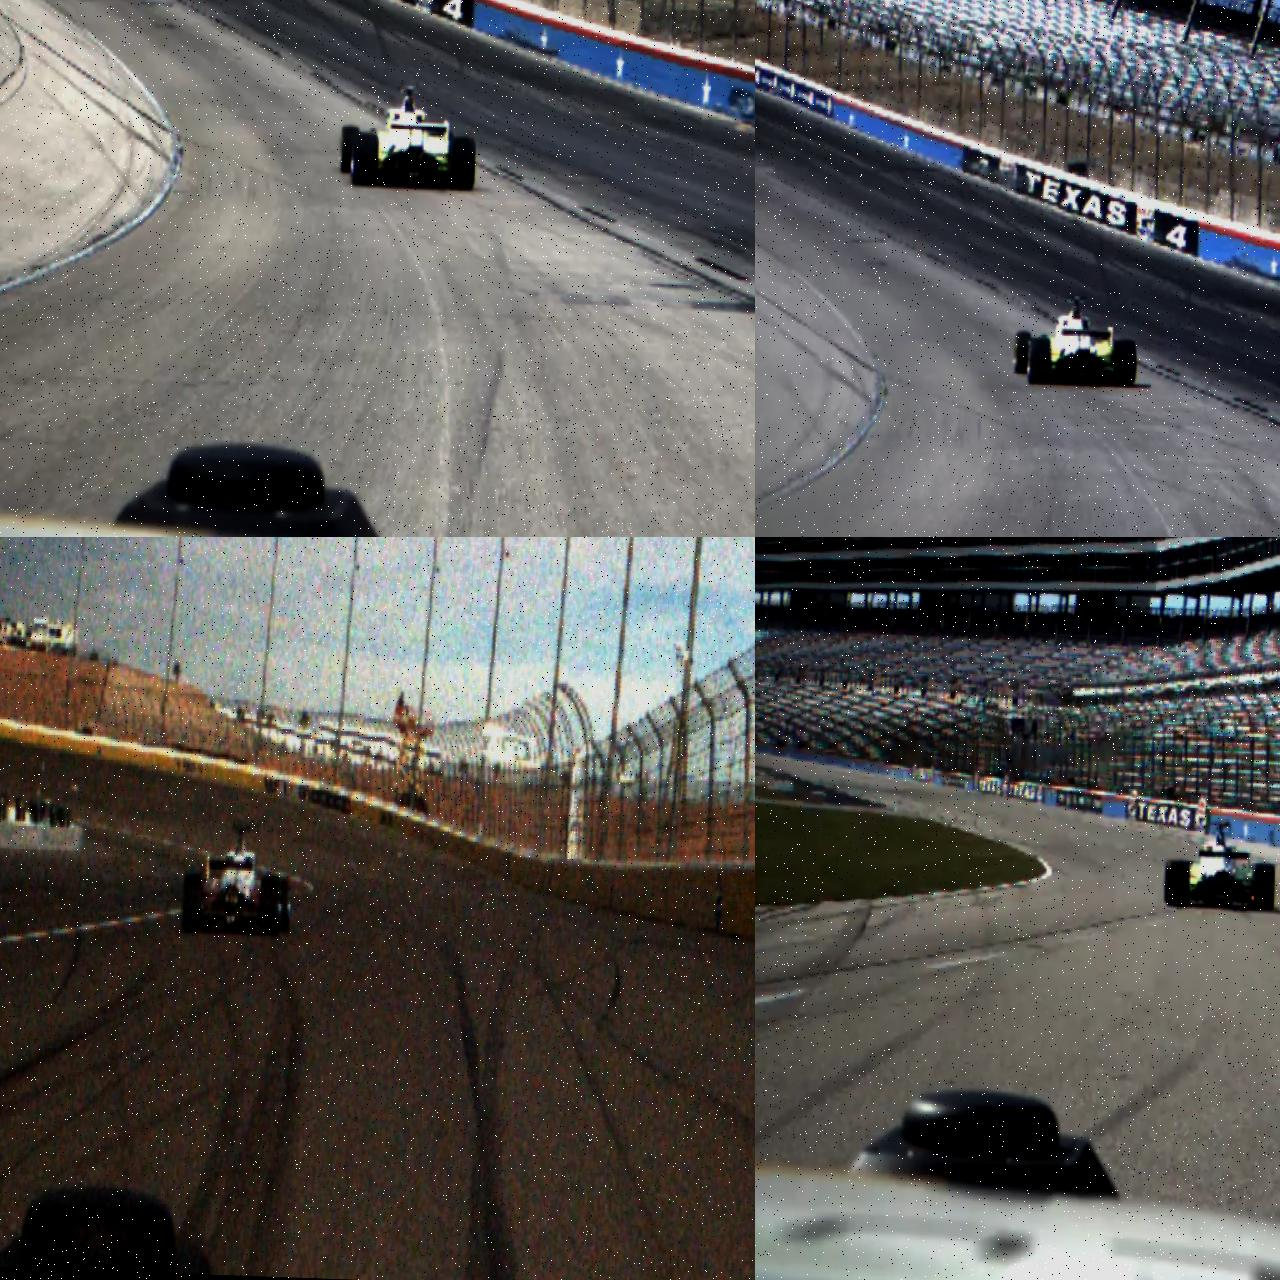AV: (338, 82, 478, 191), (181, 817, 294, 938), (1012, 293, 1138, 388), (1164, 821, 1276, 911)
Wheel: (350, 132, 377, 186), (449, 136, 475, 191), (181, 872, 203, 934), (259, 873, 280, 937), (1112, 339, 1137, 386), (1027, 338, 1051, 384), (1167, 859, 1191, 907), (1252, 863, 1275, 910), (340, 124, 360, 173), (1014, 329, 1032, 374), (275, 878, 290, 933)
